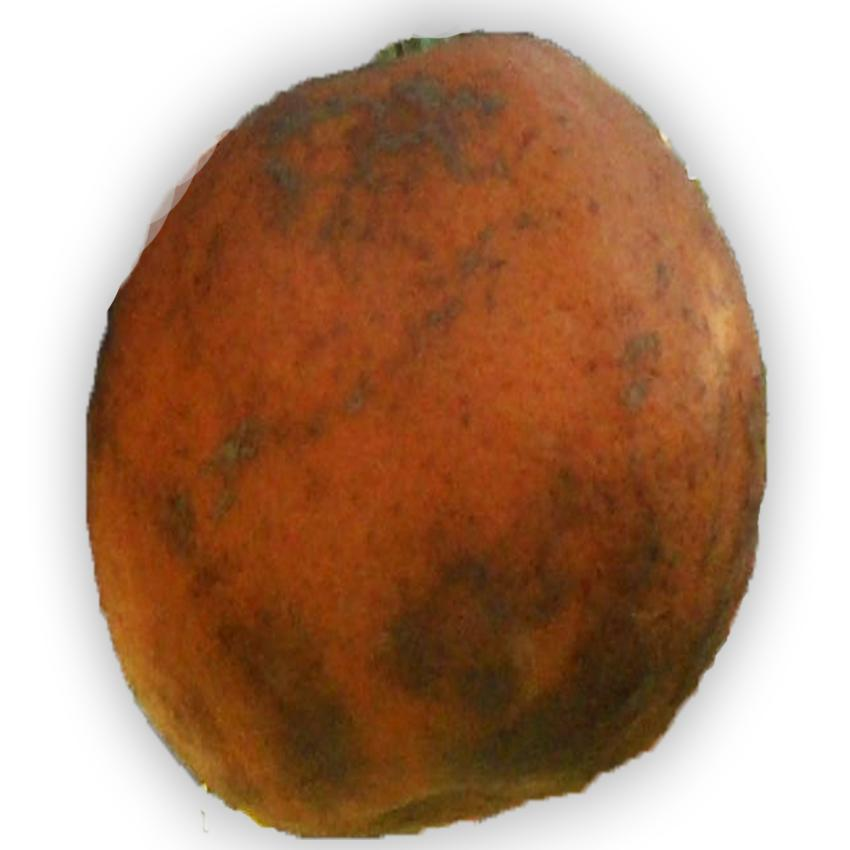Mal estado: (78, 10, 799, 845)
